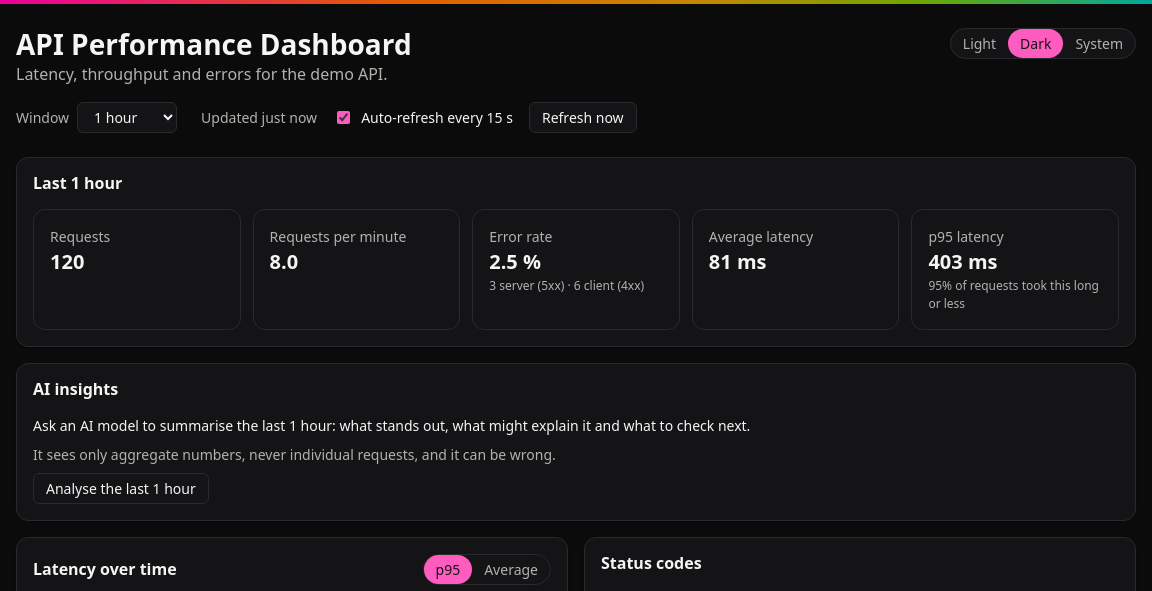
App › analyses the selected window on request, and starts fresh when the window changes
Click the button "Analyse the last 1 hour" at (121, 488), box [33,473,209,504]
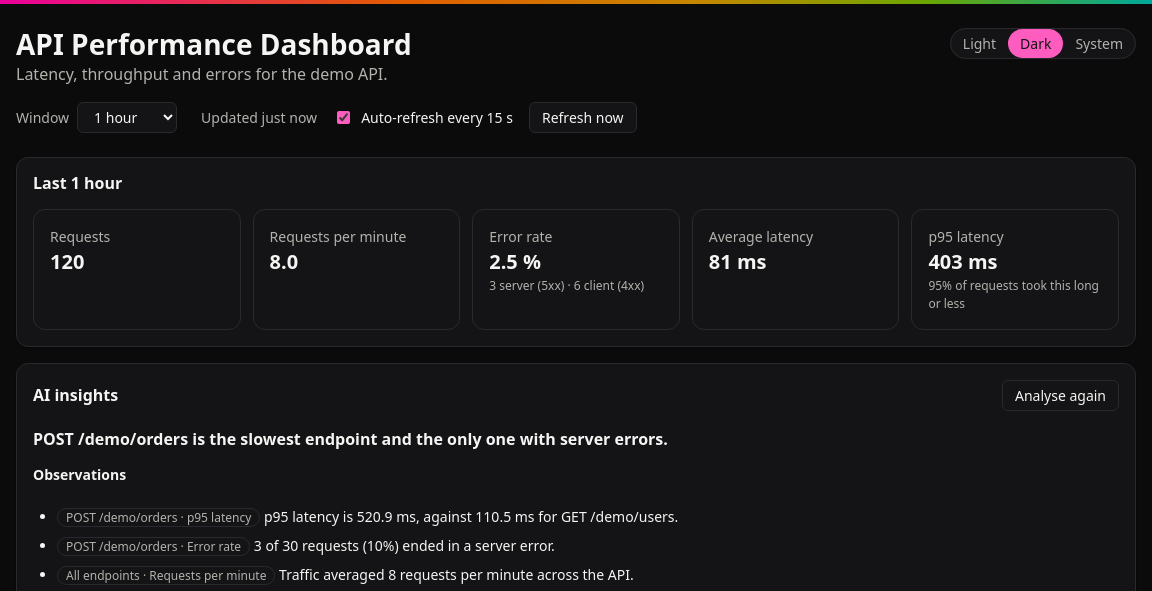
Expected: the text "POST /demo/orders is the slowest endpoint and the only one with server errors." is shown, [33,428,668,450]
Select "6 hours" in the dropdown labelled "Window" at (127, 117), box [77,102,177,133]
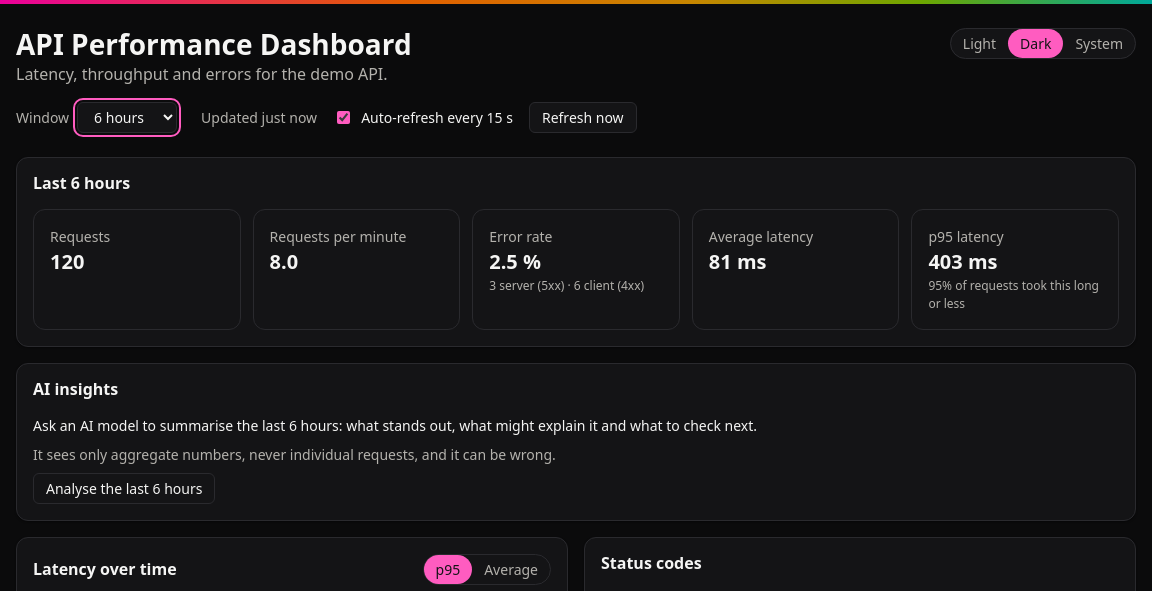
Expected: the button "Analyse the last 6 hours" is shown, [33,473,216,504]
Expected: the text "POST /demo/orders is the slowest endpoint and the only one with server errors." is gone
